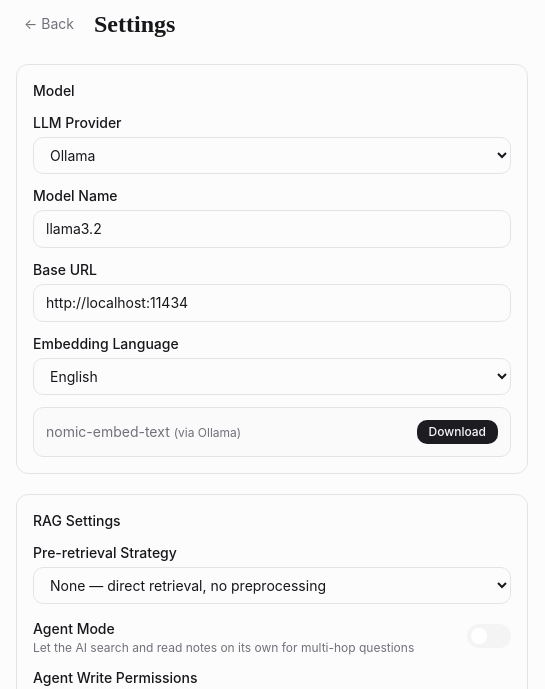
Test case: Settings — Ollama-backed embedding model › pulls the model through /ollama/pull and flips to ready
Click the button with test id "download-embedding-button". click: {"x": 457, "y": 432}
box: [416,420,498,444]
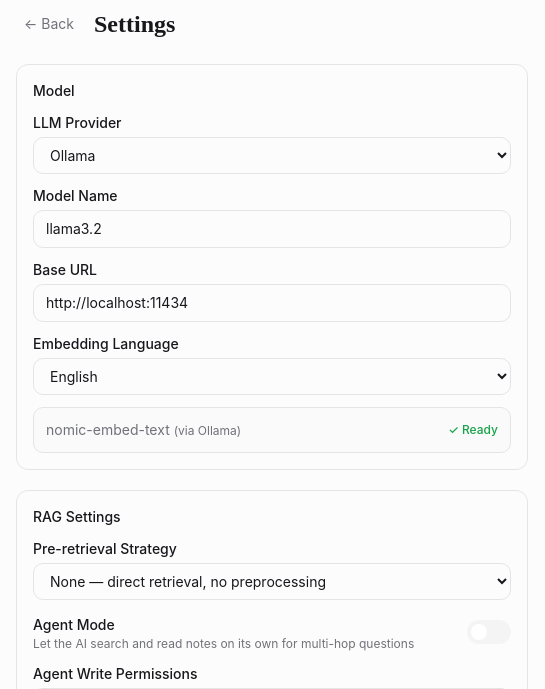
Check: the text "✓ Ready" is shown, box [448,422,498,438]
